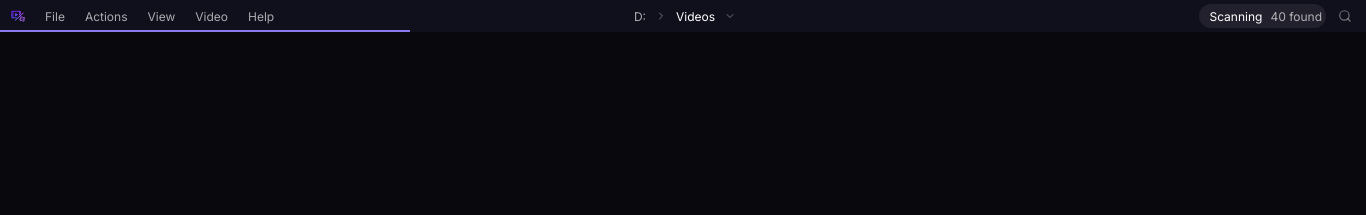
Test case: TitleBar › scan-only work has no pause controls or paused label, but keeps the finish actions
The width and height of the screenshot is (1366, 215).
Click the button "Scanning 40 found".
click(1263, 16)  # box [1199,4,1326,28]
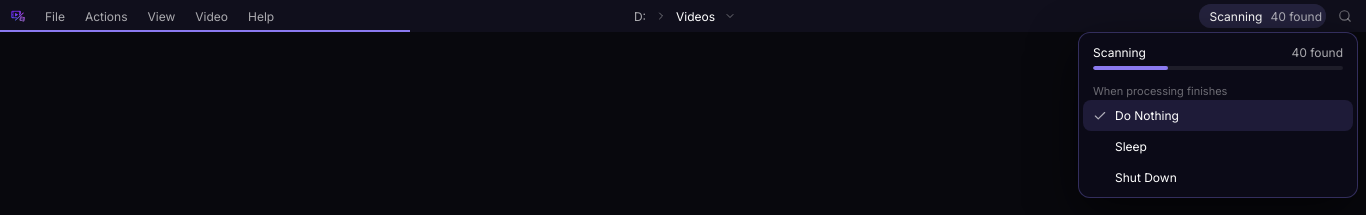
Now the menu "processing" shows "40 found", box [1291,45,1343,60]
Now the menu item "Sleep" is shown, box [1083,131,1353,162]
